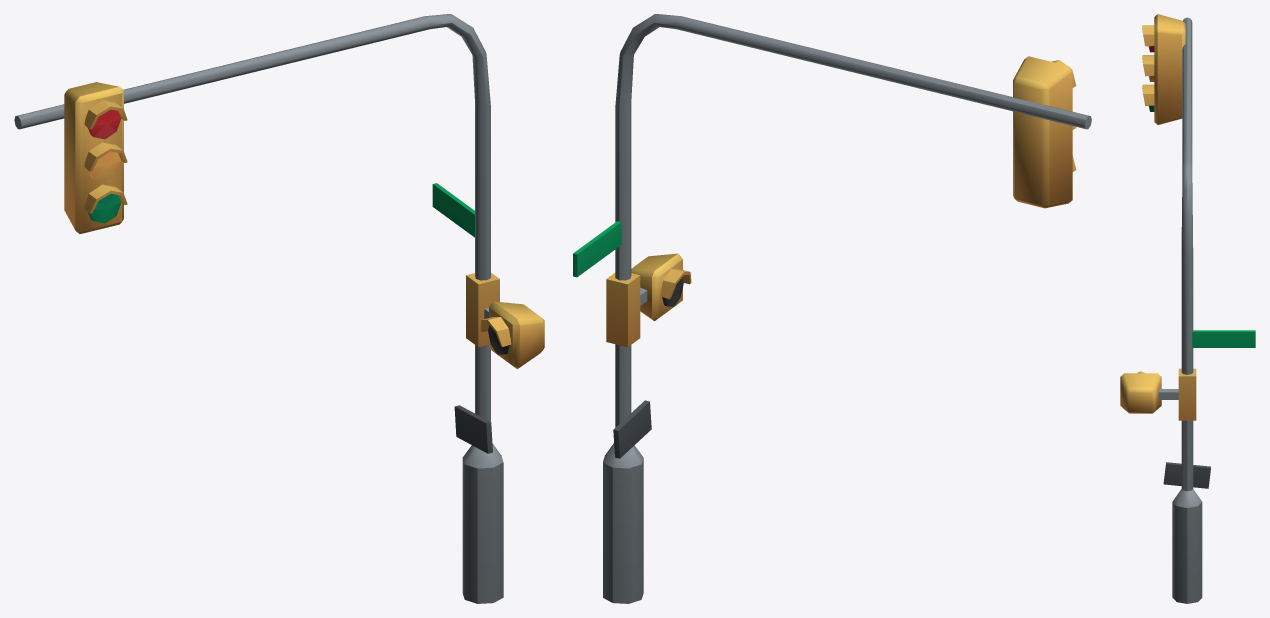
Rendered from Traffic light-transformed.glb.
The picture shows the model from 3 angles, left to right: view 1: azimuth 30°, elevation 25°; view 2: azimuth 150°, elevation 25°; view 3: azimuth 270°, elevation 25°; orthographic projection. The views are drawn at different scales.
Visible parts, largest first — view 1: trafficlight_C; view 2: trafficlight_C; view 3: trafficlight_C.
Boxes of the visible parts, x1,y1,x2,y2 form: trafficlight_C: [14, 14, 544, 603]; trafficlight_C: [573, 14, 1091, 603]; trafficlight_C: [1120, 14, 1255, 603].
Bounding box in the file's own units: 0.7978 × 0.9695 × 0.2716.
1 material, 1 textured.
